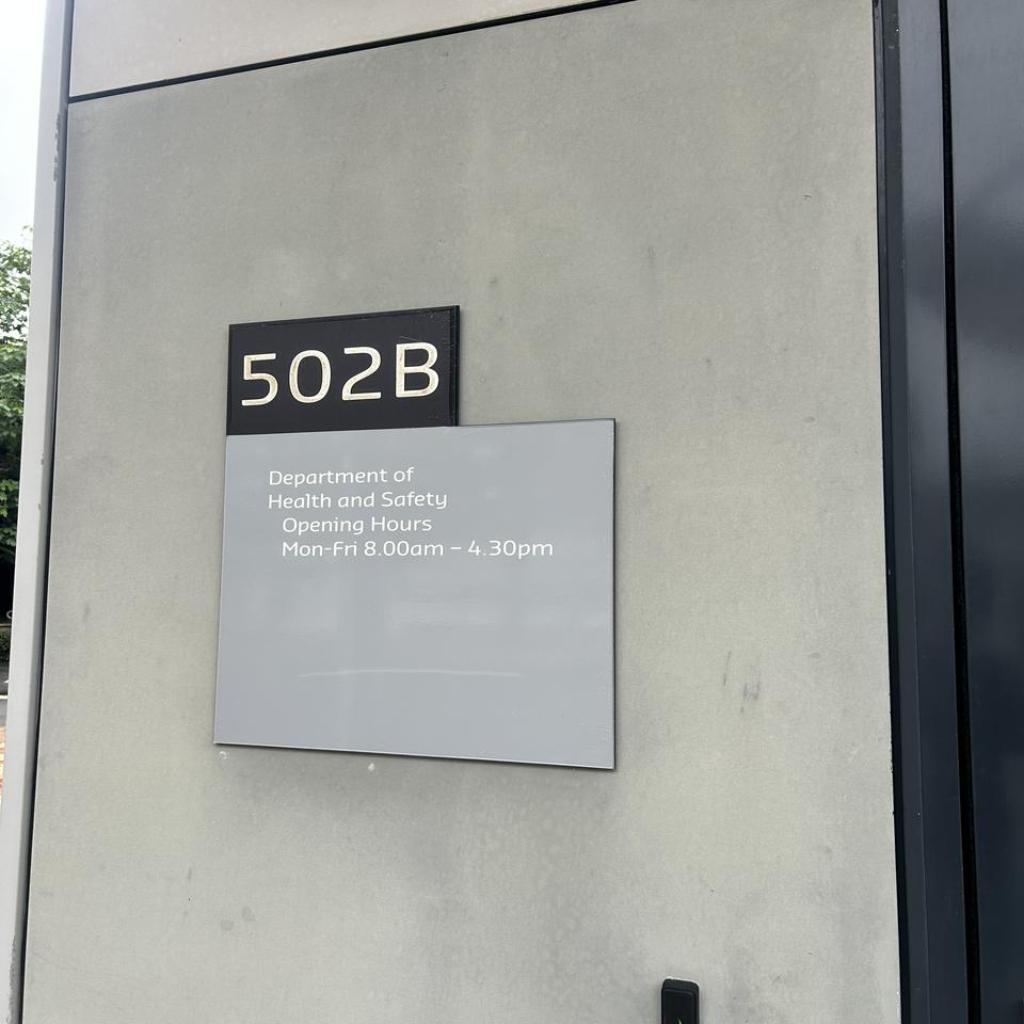BuildingCodes: (236, 338, 446, 412)
